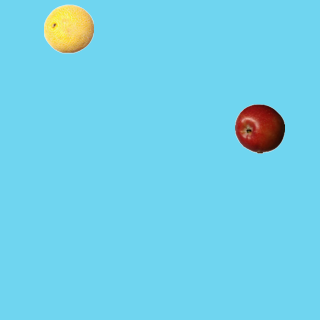Apple Braeburn: (234, 103, 284, 153)
Cantaloupe 1: (43, 3, 93, 53)
